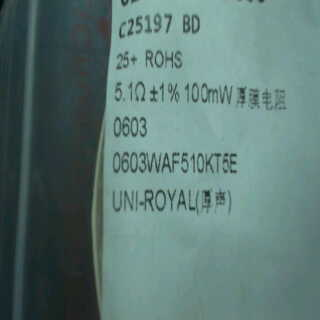5.1R: (109, 76, 148, 106)
